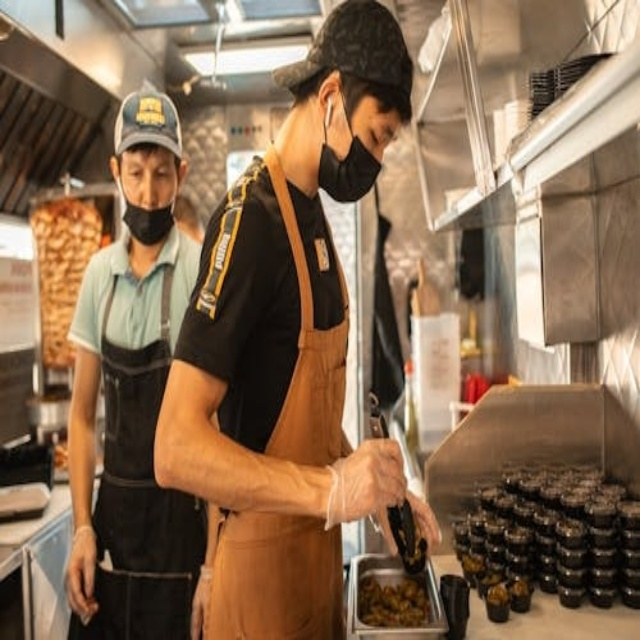Guantes: (312, 425, 416, 544), (63, 507, 108, 634), (182, 552, 219, 638)
Mascara: (319, 89, 384, 204), (120, 189, 176, 246)
Sin_gafas: (352, 96, 406, 156), (119, 154, 175, 186)
